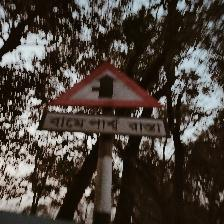Side-road-left: (39, 61, 171, 137)
